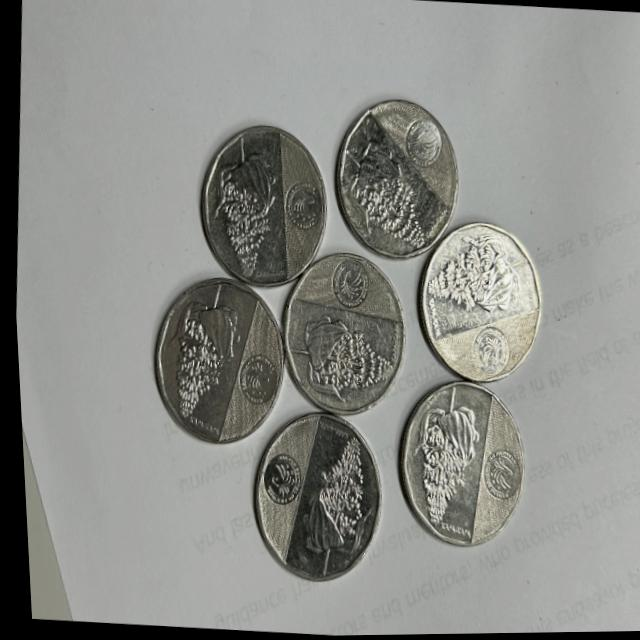10_New_Back: (336, 144, 430, 256), (425, 227, 523, 327), (155, 282, 216, 440), (213, 136, 277, 282), (291, 312, 389, 407), (408, 397, 467, 535), (303, 430, 357, 578)
